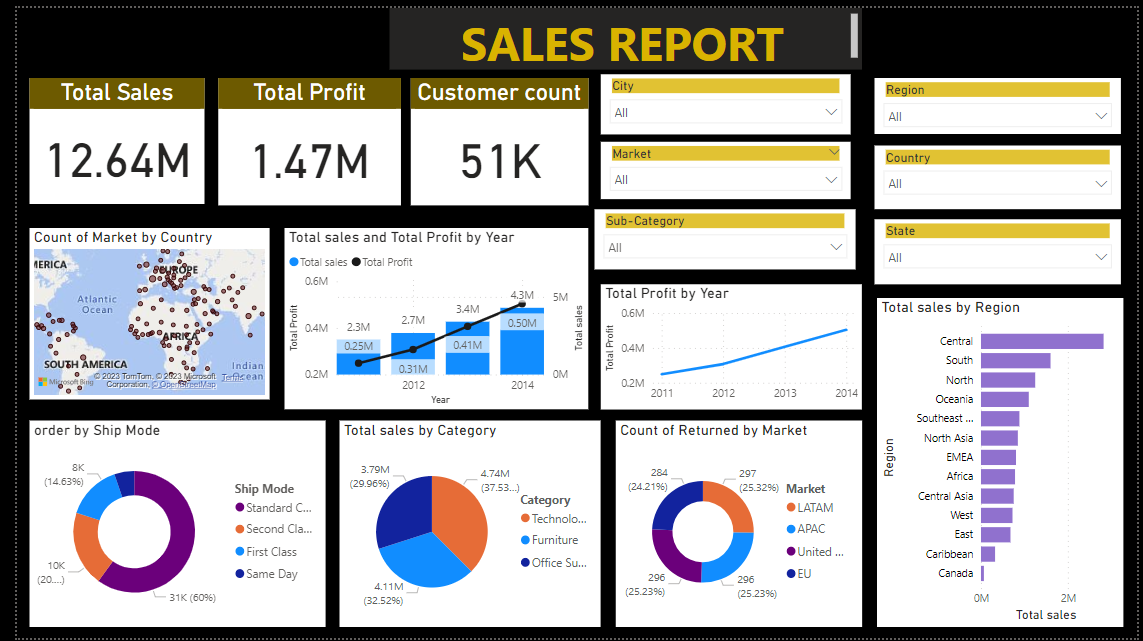

The page's visual inventory and layout, read from the dashboard file:
{"tool":"powerbi","page":{"name":"Sales report","canvas":[1280,720],"ordinal":0},"visuals":[{"type":"map","fields":{"Category":["Orders.Country","Orders.State","Orders.City","Orders.Region"],"Size":["CountNonNull(Orders.Market)"]},"box":[14.3,251.4,274.3,195.7],"z":0},{"type":"card","title":"Total Sales","fields":{"Values":["Orders.Total sales"]},"box":[14.3,80,200,144.3],"z":1000},{"type":"card","title":"Total Profit","fields":{"Values":["Orders.Total Profit"]},"box":[230,80,208.6,145.7],"z":2000},{"type":"card","title":"Customer count","fields":{"Values":["Orders.OrderCount"]},"box":[450,80,202.9,145.7],"z":3000},{"type":"slicer","fields":{"Values":["Orders.Market"]},"box":[667.1,152.9,285.7,65.7],"z":4000},{"type":"slicer","fields":{"Values":["Orders.Country"]},"box":[980,157.1,281.4,72.9],"z":5000},{"type":"slicer","fields":{"Values":["Orders.State"]},"box":[980,241.4,281.4,74.3],"z":6000},{"type":"lineStackedColumnComboChart","fields":{"Category":["Orders.Order Date.Variation.Date Hierarchy.Year"],"Y":["Orders.Total sales"],"Y2":["Orders.Total Profit"]},"box":[305.7,251.4,347.1,207.1],"z":7000},{"type":"donutChart","fields":{"Category":["Orders.Ship Mode"],"Y":["Orders.order"]},"box":[14.3,471.4,338.6,235.7],"z":8000},{"type":"pieChart","fields":{"Category":["Orders.Category"],"Y":["Orders.Total sales"]},"box":[368.6,471.4,298.6,235.7],"z":9000},{"type":"donutChart","fields":{"Category":["Returns.Market"],"Y":["CountNonNull(Returns.Returned)"]},"box":[684.3,471.4,281.4,235.7],"z":10000},{"type":"slicer","fields":{"Values":["Orders.Region"]},"box":[980,80,281.4,64.3],"z":11000},{"type":"slicer","fields":{"Values":["Orders.Sub-Category"]},"box":[660,230,298.6,68.6],"z":12000},{"type":"slicer","fields":{"Values":["Orders.City"]},"box":[667.1,75.7,285.7,68.6],"z":13000},{"type":"clusteredBarChart","fields":{"Category":["Orders.Region"],"Y":["Orders.Total sales"]},"box":[982.9,331.4,281.4,375.7],"z":14000},{"type":"lineChart","fields":{"Category":["Orders.Order Date.Variation.Date Hierarchy.Year"],"Y":["Orders.Total Profit"]},"box":[667.1,315.7,298.6,142.9],"z":15000},{"type":"textbox","box":[425.7,0,540,70],"z":16000}]}

Visuals, with their boxes in screenshot pixels (x1, y1, x2, y2), scaled from the page's 1280x720 canvas onto the 1143x641 screenshot:
map - Orders.Country x Orders.State: Rect(13, 224, 258, 398)
"Total Sales" card: Rect(13, 71, 191, 200)
"Total Profit" card: Rect(205, 71, 392, 201)
"Customer count" card: Rect(402, 71, 583, 201)
slicer - Orders.Market: Rect(596, 136, 851, 195)
slicer - Orders.Country: Rect(875, 140, 1126, 205)
slicer - Orders.State: Rect(875, 215, 1126, 281)
lineStackedColumnComboChart - Orders.Order Date.Variation.Date Hierarchy.Year x Orders.Total sales: Rect(273, 224, 583, 408)
donutChart - Orders.Ship Mode x Orders.order: Rect(13, 420, 315, 630)
pieChart - Orders.Category x Orders.Total sales: Rect(329, 420, 596, 630)
donutChart - Returns.Market x CountNonNull(Returns.Returned): Rect(611, 420, 862, 630)
slicer - Orders.Region: Rect(875, 71, 1126, 128)
slicer - Orders.Sub-Category: Rect(589, 205, 856, 266)
slicer - Orders.City: Rect(596, 67, 851, 128)
clusteredBarChart - Orders.Region x Orders.Total sales: Rect(878, 295, 1129, 630)
lineChart - Orders.Order Date.Variation.Date Hierarchy.Year x Orders.Total Profit: Rect(596, 281, 862, 408)
textbox: Rect(380, 0, 862, 62)
